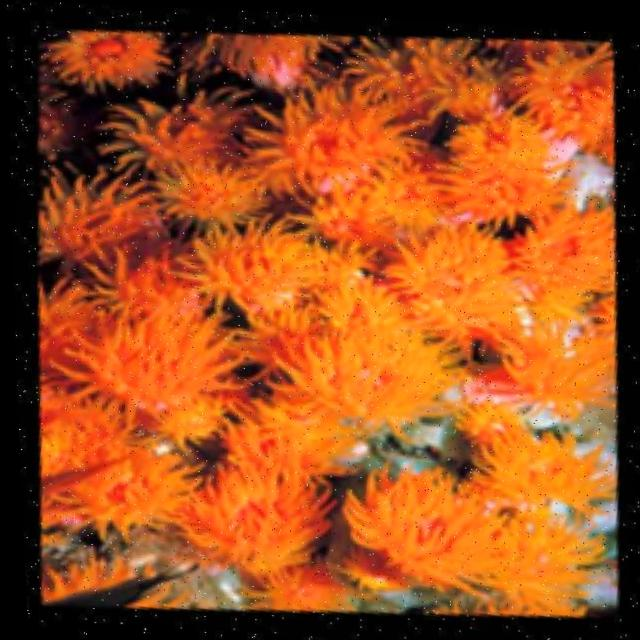Healthy Coral: (24, 48, 334, 339), (9, 249, 253, 561), (307, 451, 607, 640), (256, 263, 476, 458), (147, 406, 361, 584), (251, 72, 447, 249), (366, 187, 532, 364), (457, 277, 640, 433), (437, 385, 625, 528), (407, 90, 576, 242)
